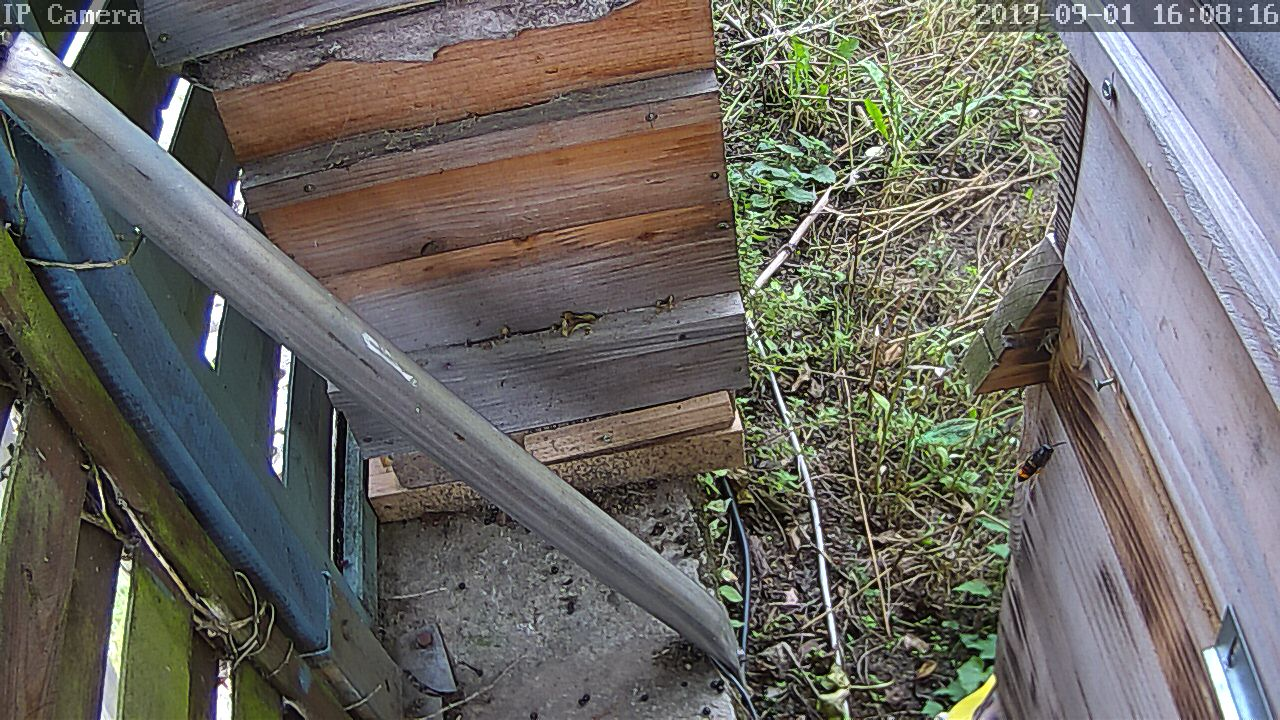hornet: (1013, 437, 1058, 490)
